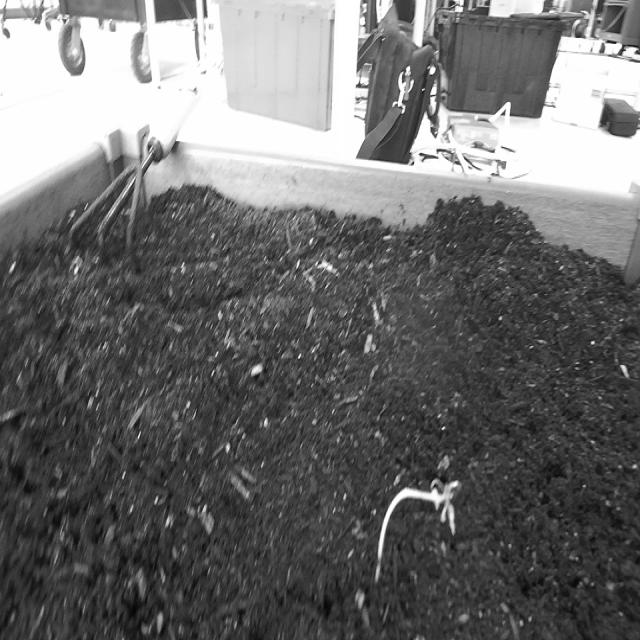Unhealthy: (370, 465, 464, 597)
